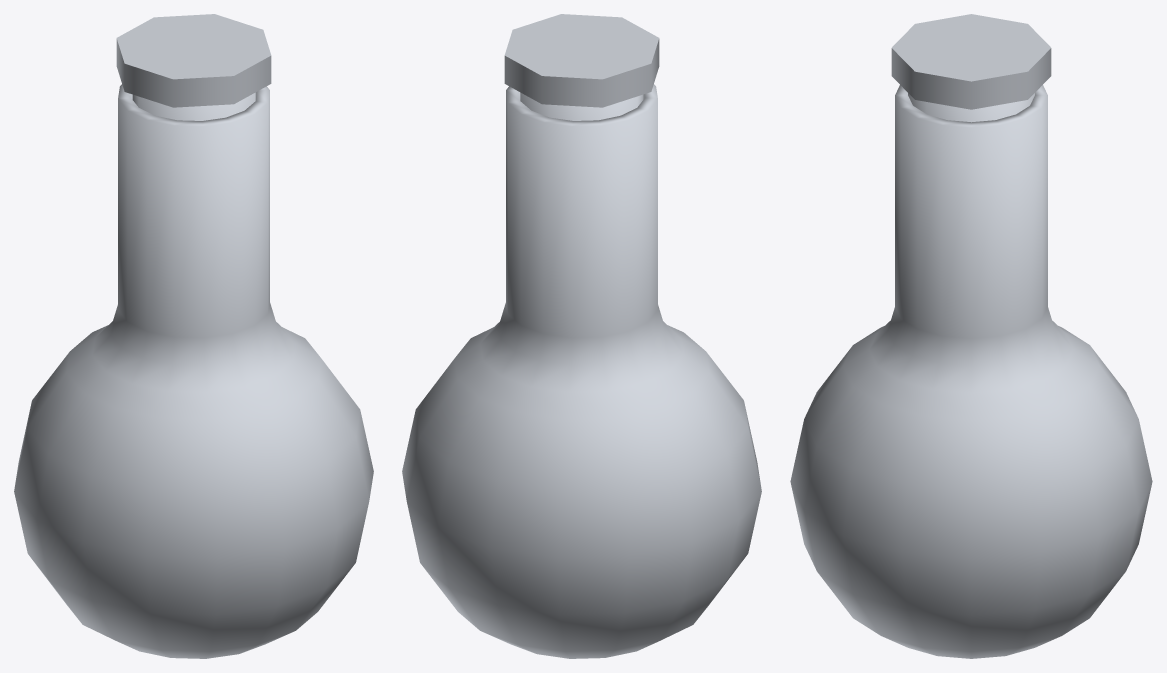
Rendered from bottle_glassware_round_bottom_flask_medium.glb.
The picture shows the model from 3 angles, left to right: view 1: azimuth 30°, elevation 25°; view 2: azimuth 150°, elevation 25°; view 3: azimuth 270°, elevation 25°; orthographic projection.
Parts seen in each view (by area): view 1: bottle_glassware_round_bottom_flask_medium, bottle_glassware_round_bottom_flask_medium_cap; view 2: bottle_glassware_round_bottom_flask_medium, bottle_glassware_round_bottom_flask_medium_cap; view 3: bottle_glassware_round_bottom_flask_medium, bottle_glassware_round_bottom_flask_medium_cap.
Boxes of the visible parts, x1,y1,x2,y2 form: bottle_glassware_round_bottom_flask_medium: (14, 84, 373, 658); bottle_glassware_round_bottom_flask_medium_cap: (116, 14, 271, 120); bottle_glassware_round_bottom_flask_medium: (402, 84, 761, 658); bottle_glassware_round_bottom_flask_medium_cap: (504, 14, 659, 120); bottle_glassware_round_bottom_flask_medium: (790, 85, 1152, 658); bottle_glassware_round_bottom_flask_medium_cap: (891, 14, 1051, 122).
Size of the model in its own units: 11.08 by 19.79 by 11.08.
Materials: 1 (1 with a texture image).
